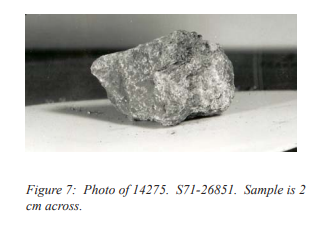Breccia: (85, 22, 239, 122)
